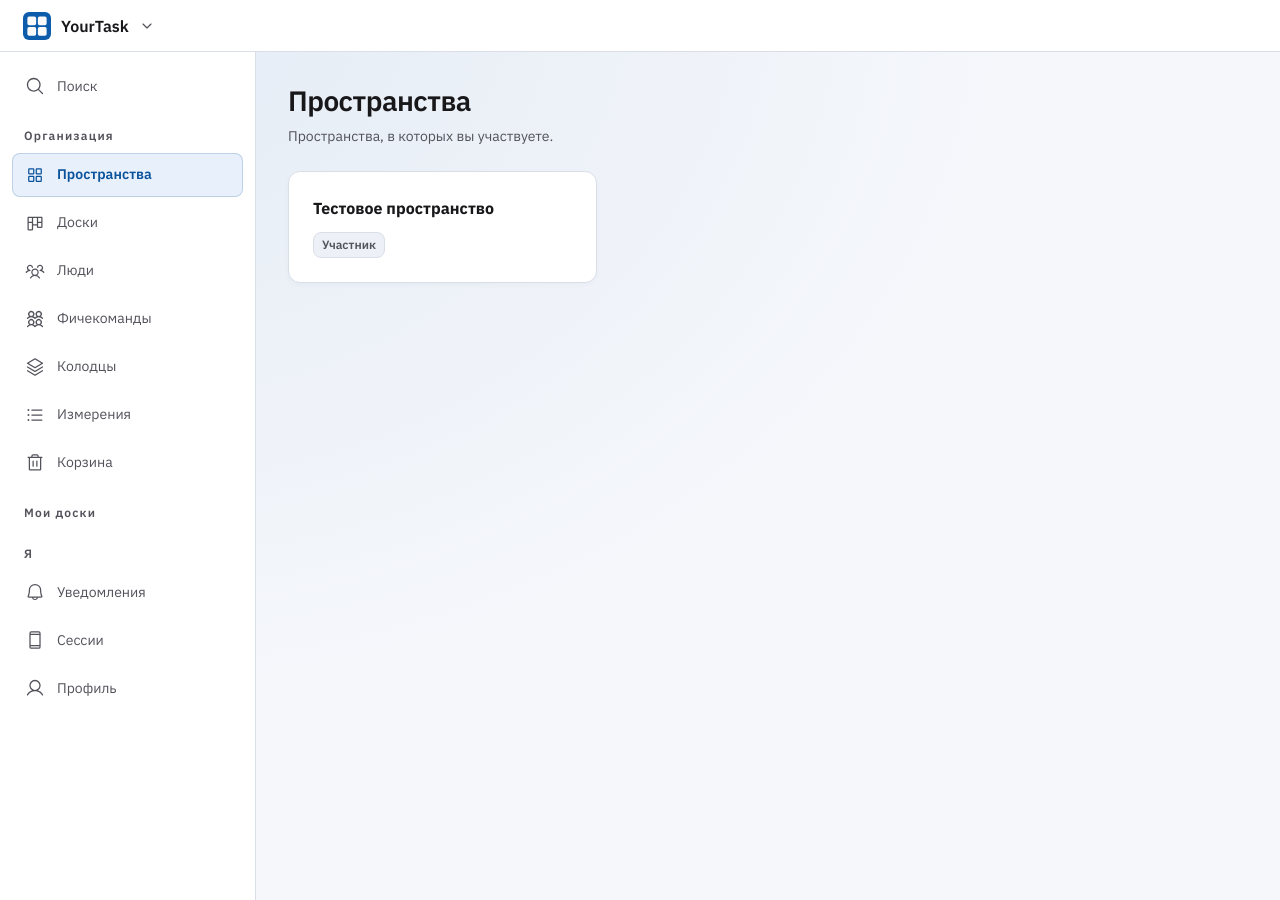
Test case: workspace › signed-in user sees the empty test space
Click the link "Тестовое пространство Участник": (404, 208) x1=288 y1=171 x2=597 y2=283
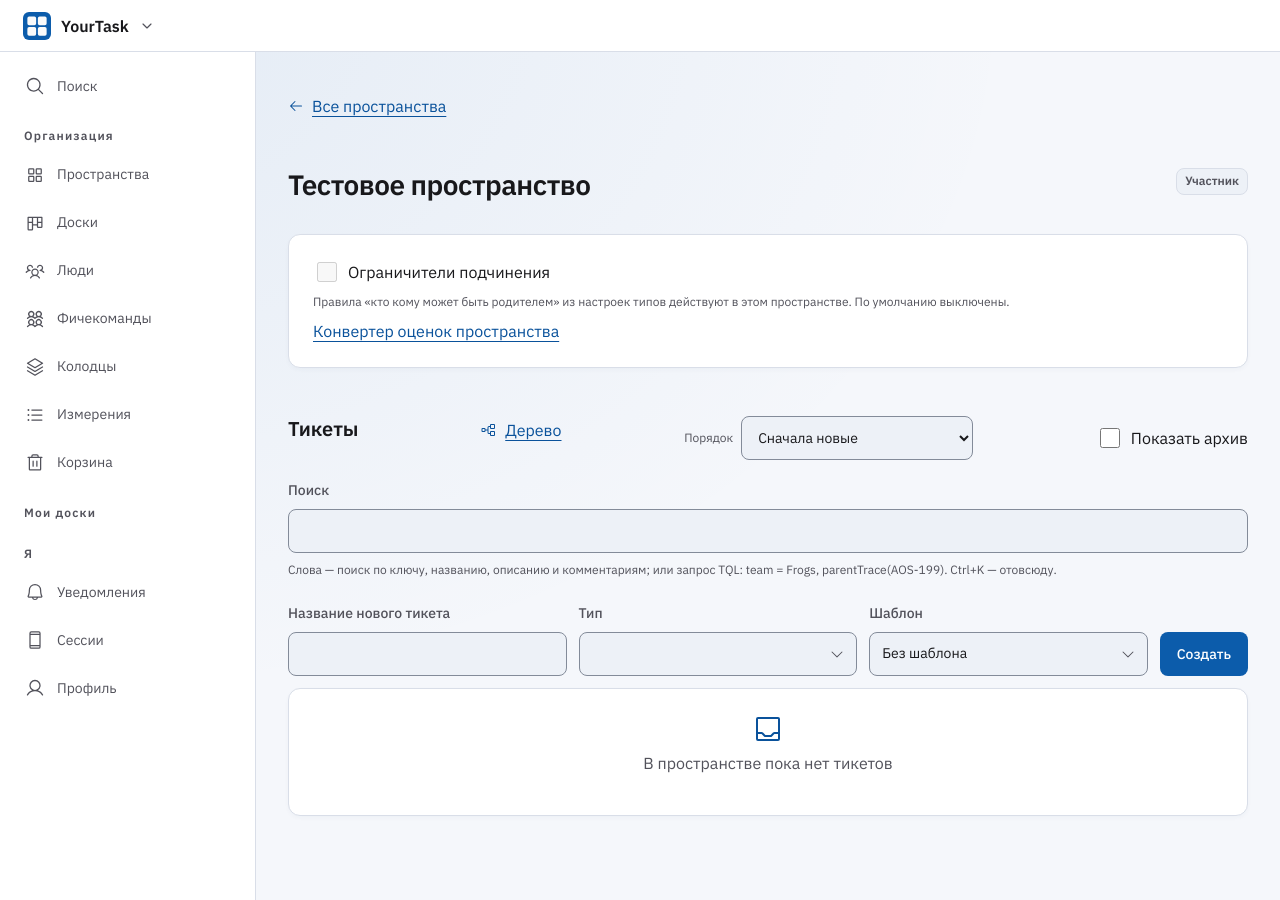
Now the text "В пространстве пока нет тикетов" is shown, box x1=643 y1=753 x2=893 y2=773
